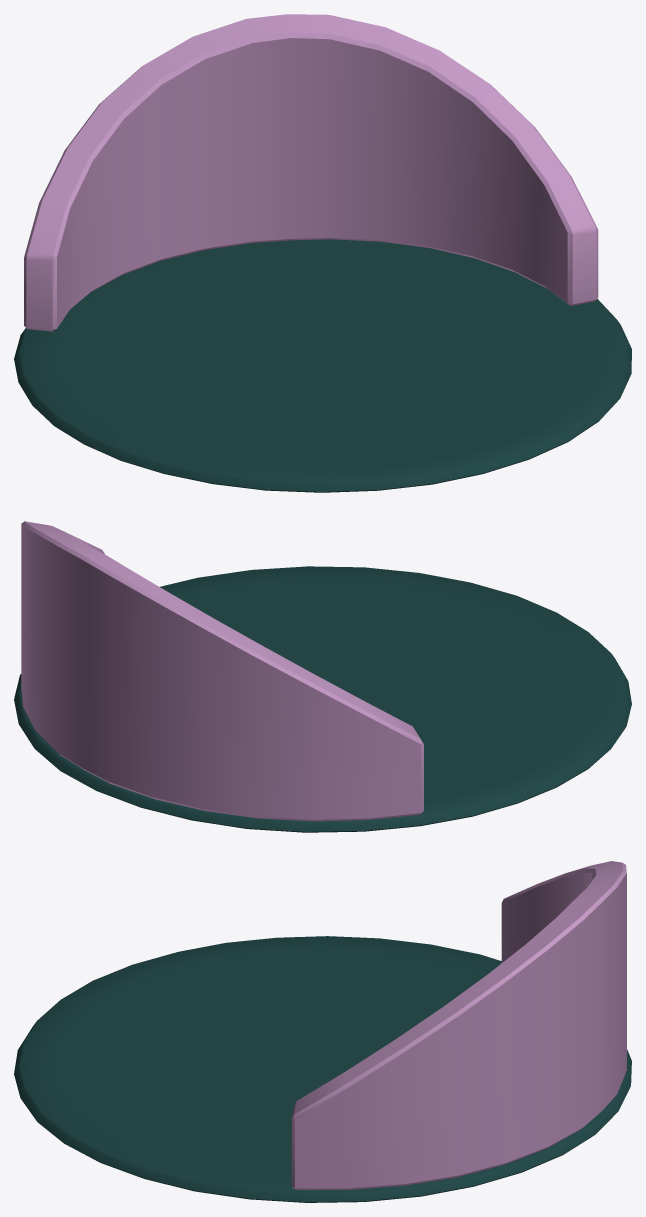
File: portal.FBX
3 views of the same model, one above another, from view 1: azimuth 30°, elevation 25°; view 2: azimuth 150°, elevation 25°; view 3: azimuth 270°, elevation 25° (orthographic).
Visible parts, largest first — view 1: Low_portal, Low_wall; view 2: Low_wall, Low_portal; view 3: Low_portal, Low_wall.
Boxes of the visible parts, box(x1,y1,x2,y2) form: Low_portal: box(14, 239, 631, 492); Low_wall: box(24, 14, 598, 331); Low_wall: box(21, 521, 423, 821); Low_portal: box(14, 566, 631, 832); Low_portal: box(14, 936, 631, 1202); Low_wall: box(291, 861, 626, 1189).
Bounding box in the file's own units: 854 × 339 × 853.
